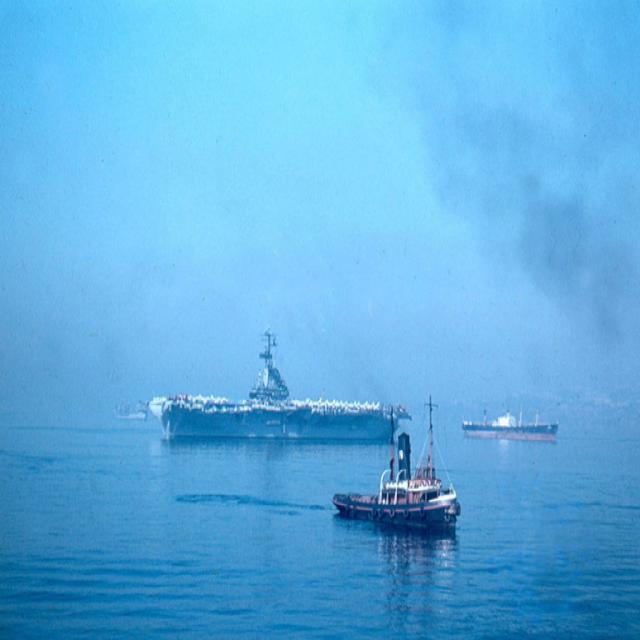Portanaves: (135, 320, 413, 462)
